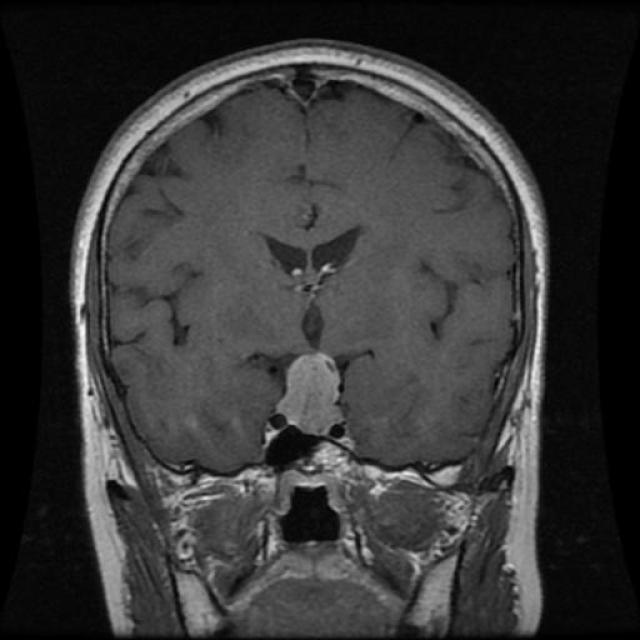brain_tumor: (268, 352, 350, 449)
